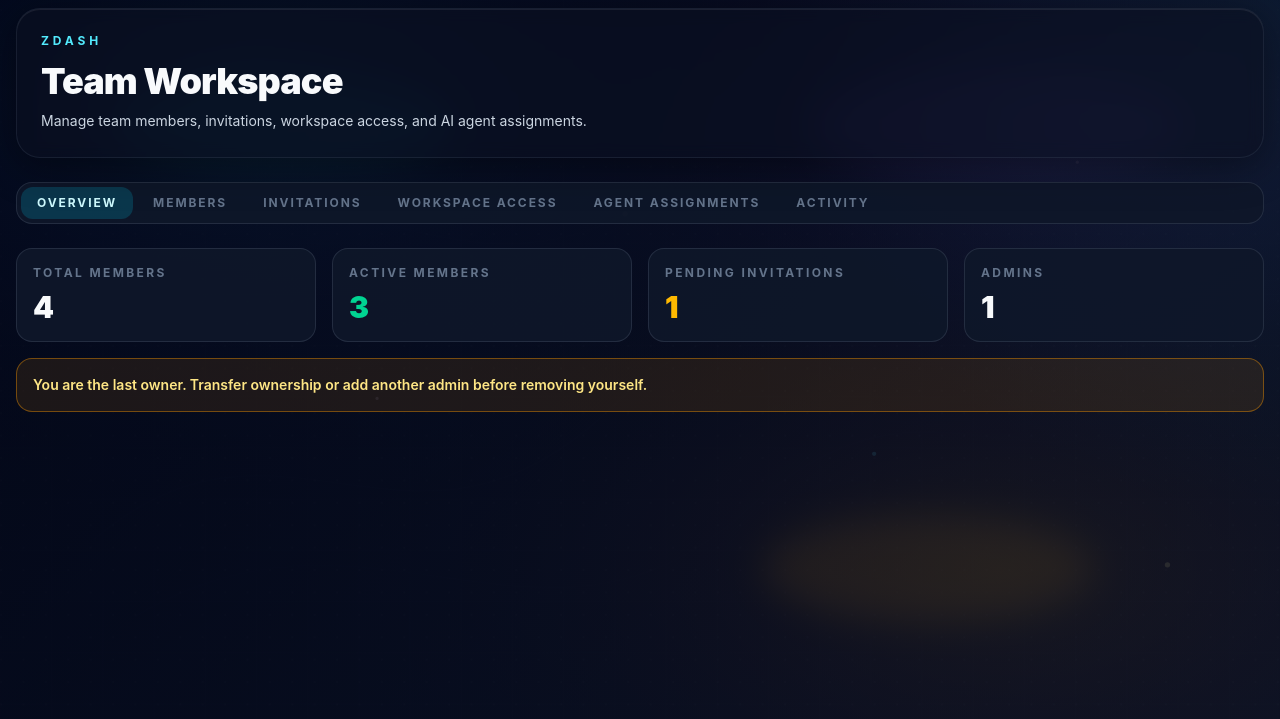
Test: TeamActions › suspend/remove actions show confirmation dialog
Click the button "Members" at (190, 203), box [137, 187, 243, 219]
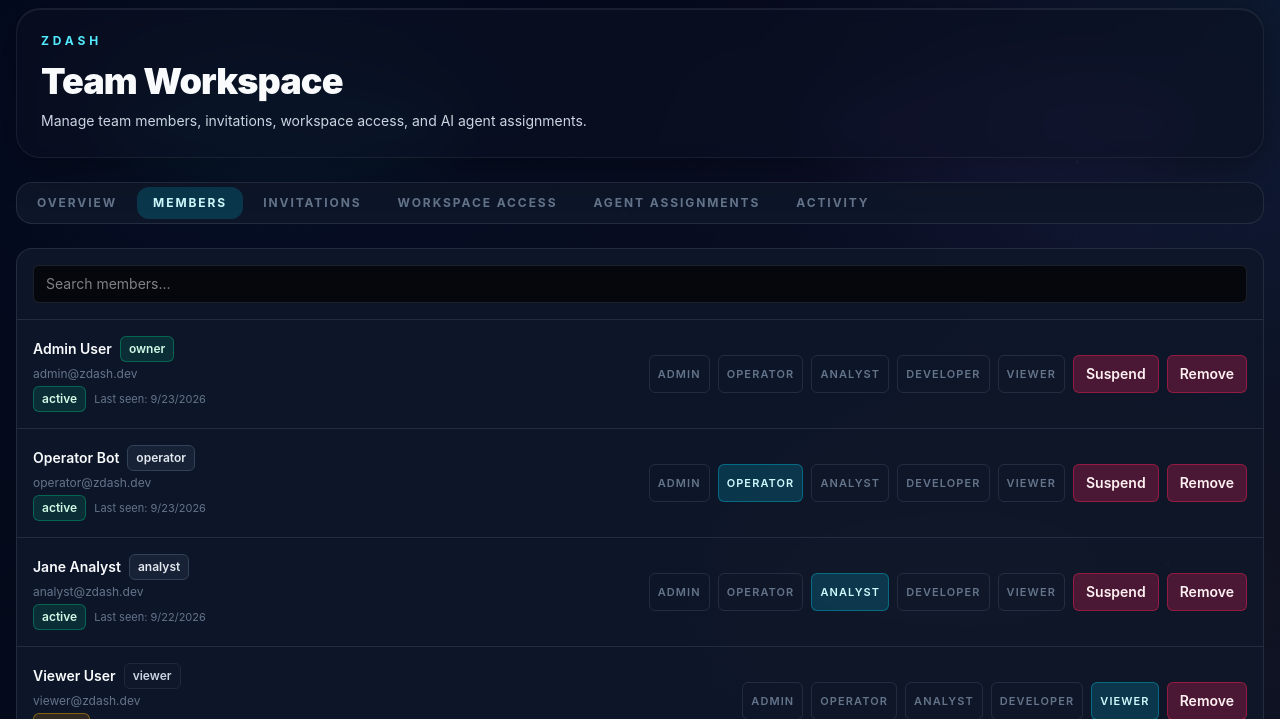
Expected: the text "Admin User" is shown, [33, 339, 112, 359]
Expected: the button "Suspend" in the row of "admin@zdash.dev" is shown
Click the button "Suspend" in the row of "admin@zdash.dev" at (1116, 374), box [1073, 355, 1159, 393]
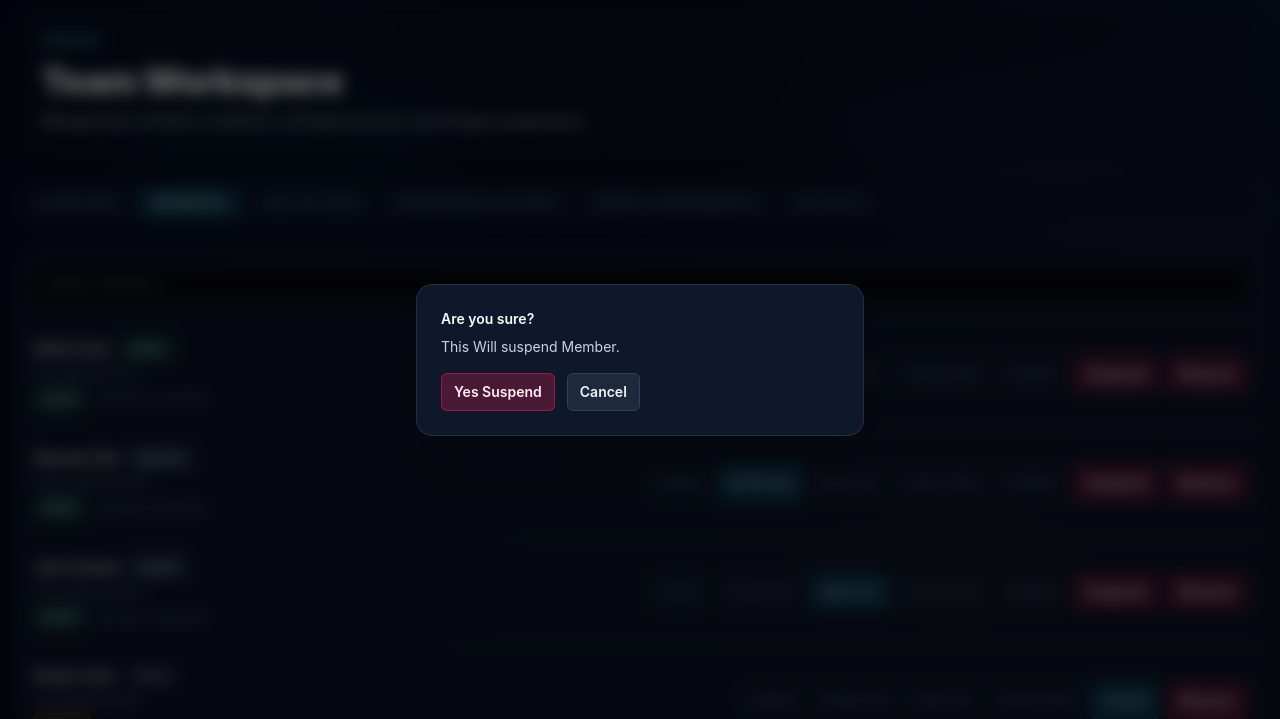
Expected: the text "Are you sure?" is shown, [441, 310, 534, 327]
Expected: the button "Cancel" is shown, [567, 373, 640, 411]
